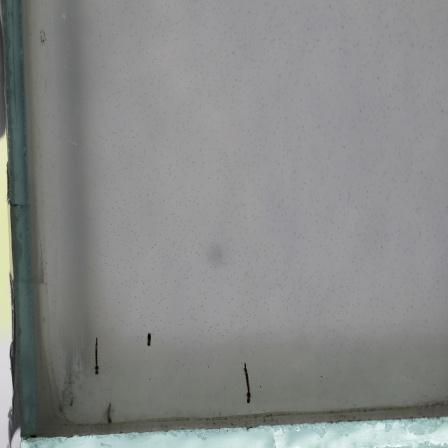Jentik-Nyamuk: (239, 360, 256, 408), (90, 334, 104, 377), (103, 402, 118, 424), (143, 330, 155, 350)
